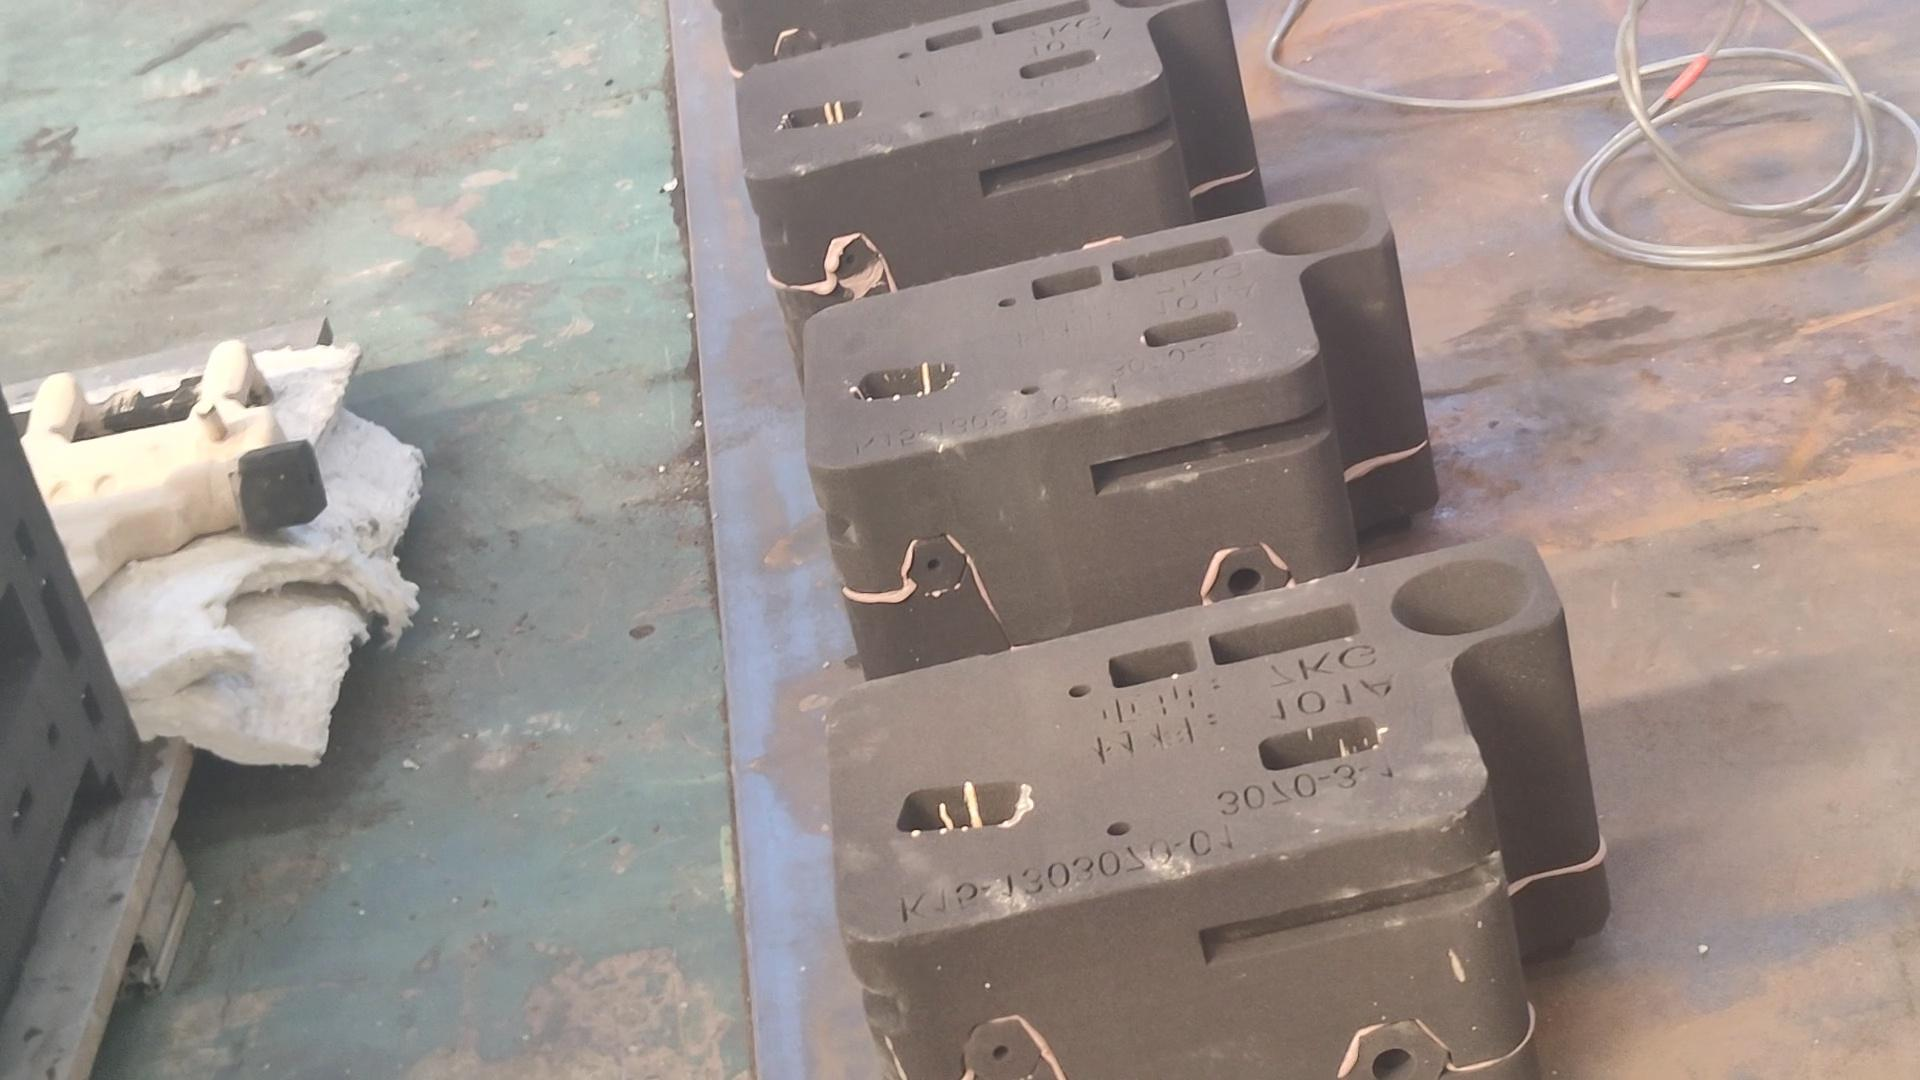pouring hole: (1389, 556, 1534, 636), (1257, 200, 1371, 255), (1109, 1, 1184, 11)
